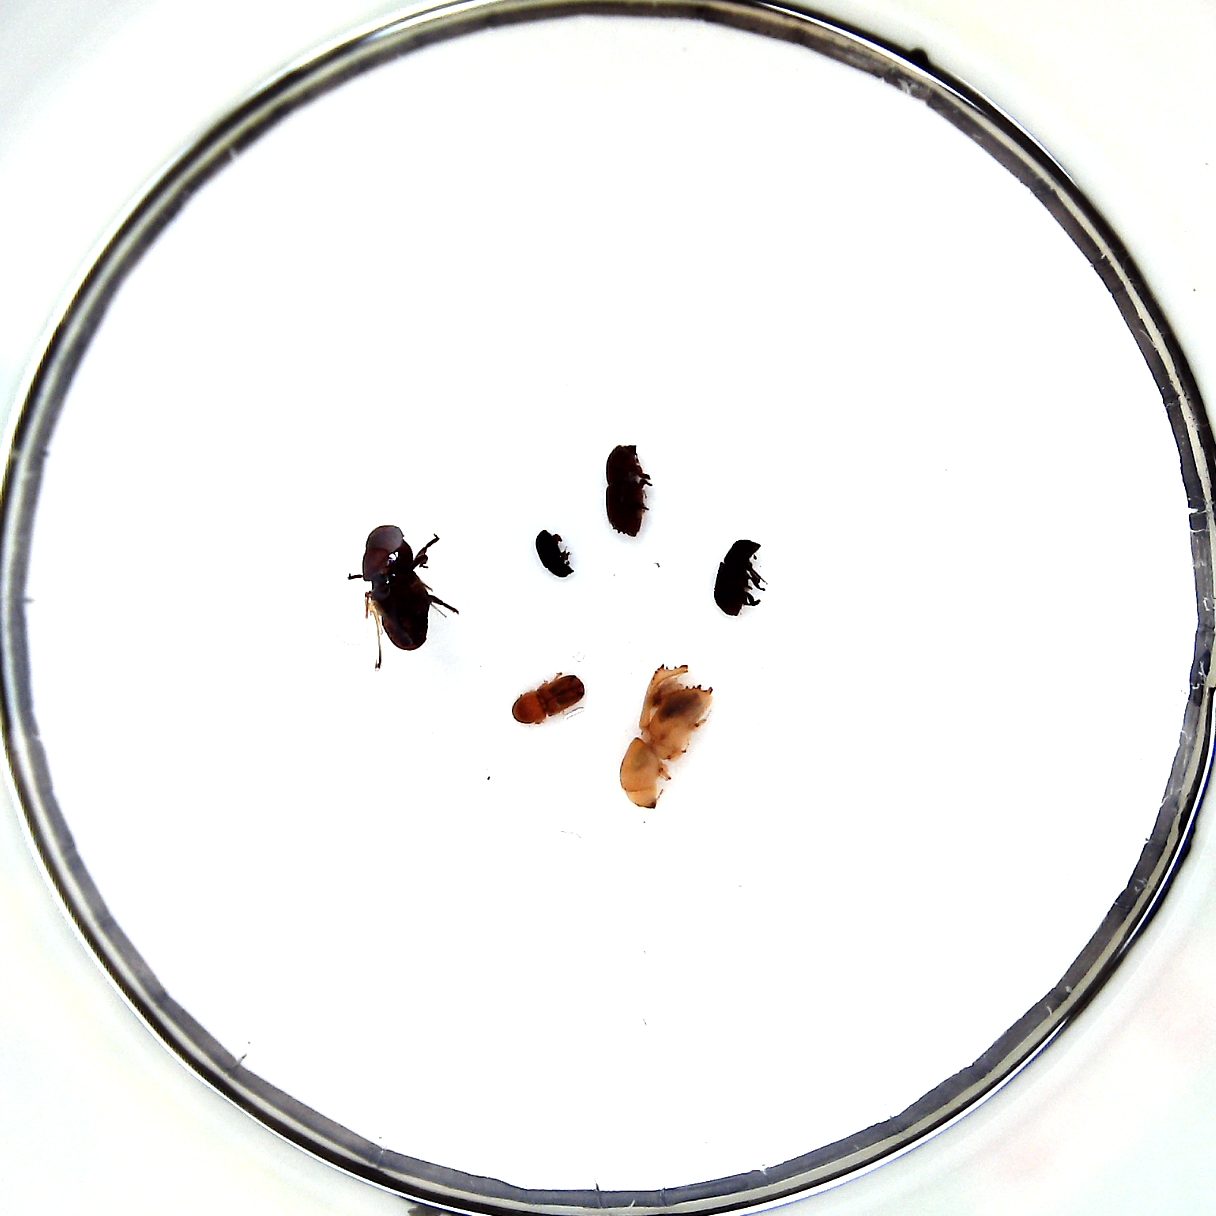Boerner: (619, 664, 712, 810)
Leconte: (362, 524, 430, 651)
acuminatus: (535, 530, 573, 578)
armandi: (713, 539, 759, 616)
linnaeus: (605, 444, 653, 537), (511, 675, 585, 724)
